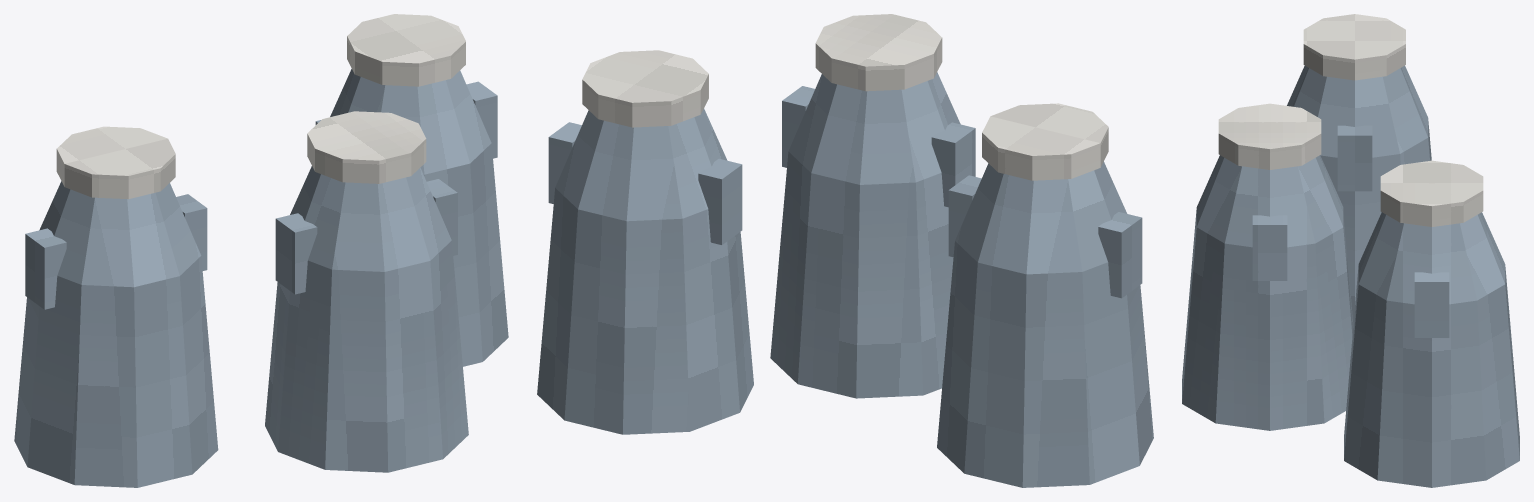
The model's file is pixel-modern-farm-milk-churns-b7ab7f11__29142.glb.
3 views of the same model, side by side, from view 1: azimuth 30°, elevation 25°; view 2: azimuth 150°, elevation 25°; view 3: azimuth 270°, elevation 25° (orthographic). The views are drawn at different scales.
Parts seen in each view (by area): view 1: milk-churns; view 2: milk-churns; view 3: milk-churns.
Part boxes in pixels (x1=…): milk-churns: x1=14, y1=14, x2=508, y2=487; milk-churns: x1=537, y1=14, x2=1153, y2=487; milk-churns: x1=1182, y1=14, x2=1519, y2=487.
Size of the model in its own units: 1.38 by 0.76 by 0.8766.
2 materials, 2 textured.
